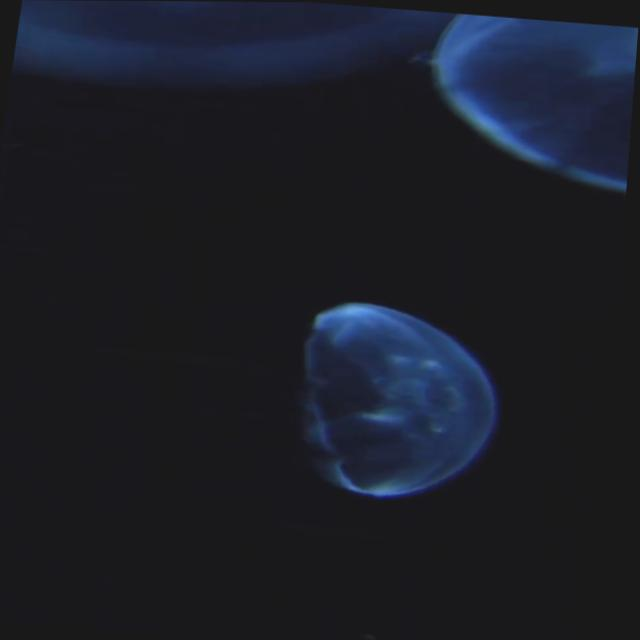Moon-jellyfish: (301, 298, 515, 505), (416, 12, 639, 191)
